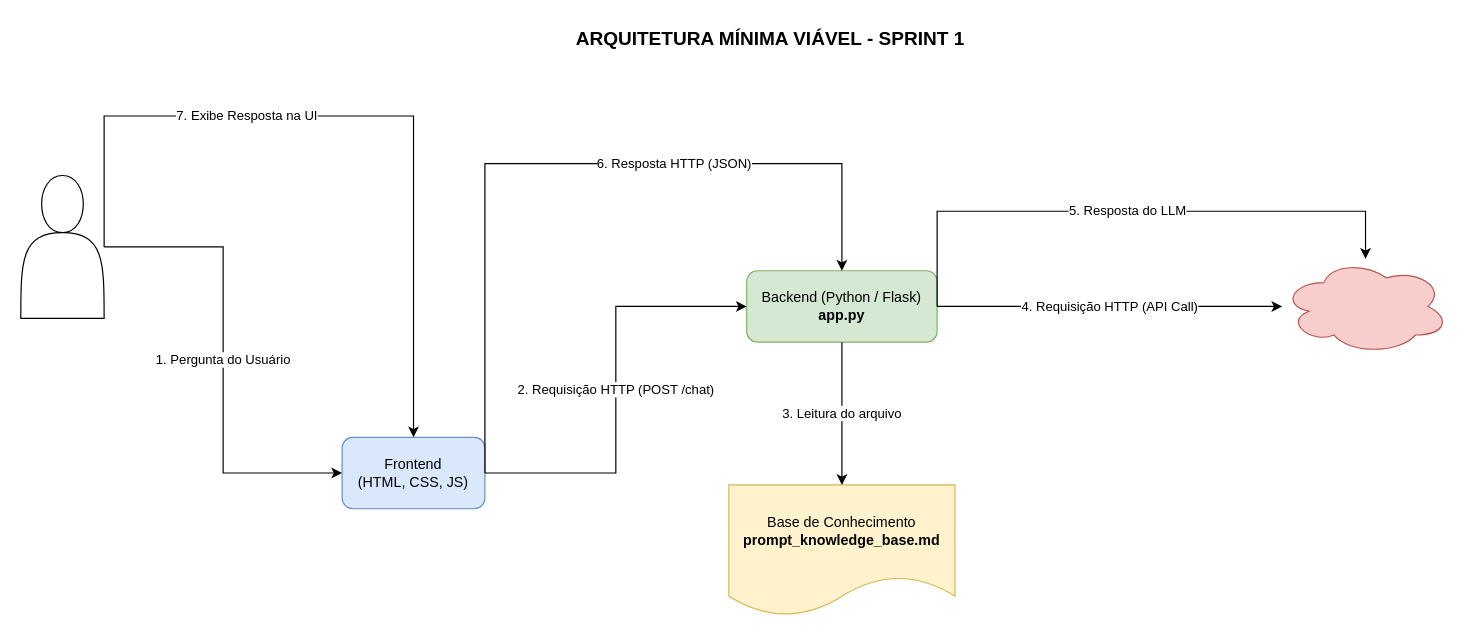
Image size: 1470x637. Some labels were removed from this diagram. Each missing label, with the centre of its shape:
API Externa (Google Gemini): the point at 1365,306
Usuário (Navegador): the point at 62,246
